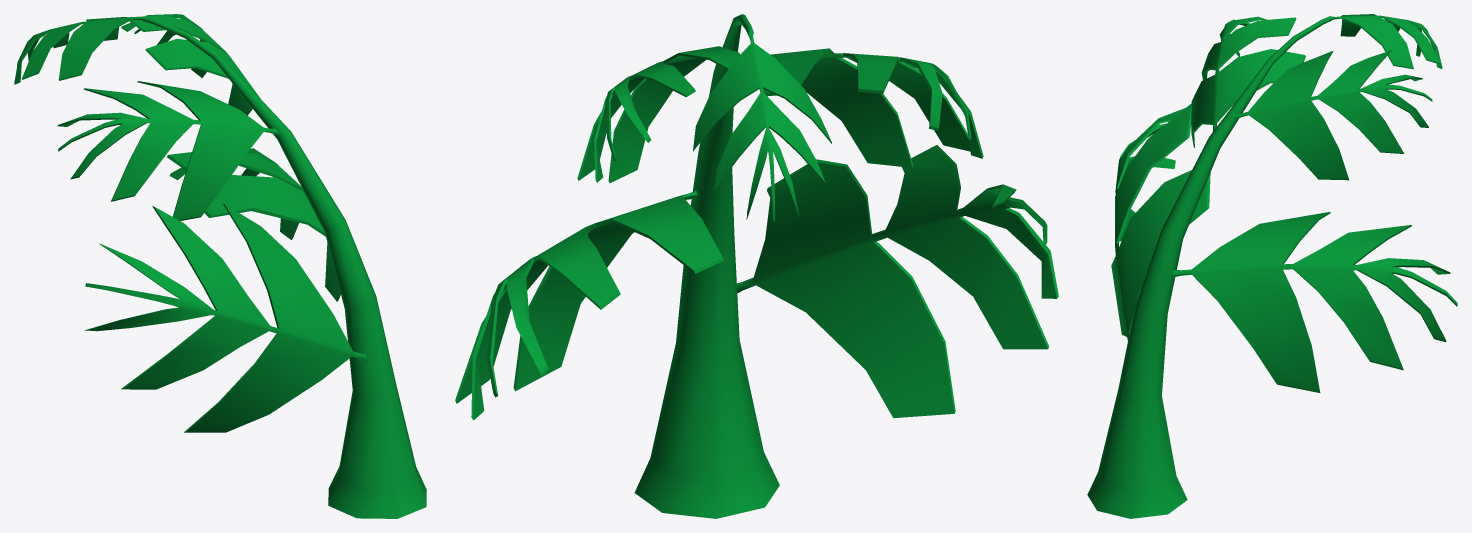
The model's file is Indoor Tree.fbx.
3 views of the same model, side by side, from view 1: azimuth 30°, elevation 25°; view 2: azimuth 150°, elevation 25°; view 3: azimuth 270°, elevation 25° (orthographic). The views are drawn at different scales.
Parts seen in each view (by area): view 1: Indoor_Tree_01; view 2: Indoor_Tree_01; view 3: Indoor_Tree_01.
Part boxes in pixels (box(x1,y1,x2,y2)): Indoor_Tree_01: box(14, 14, 426, 518); Indoor_Tree_01: box(455, 14, 1058, 518); Indoor_Tree_01: box(1087, 14, 1457, 518).
Size of the model in its own units: 205 by 270 by 215.
